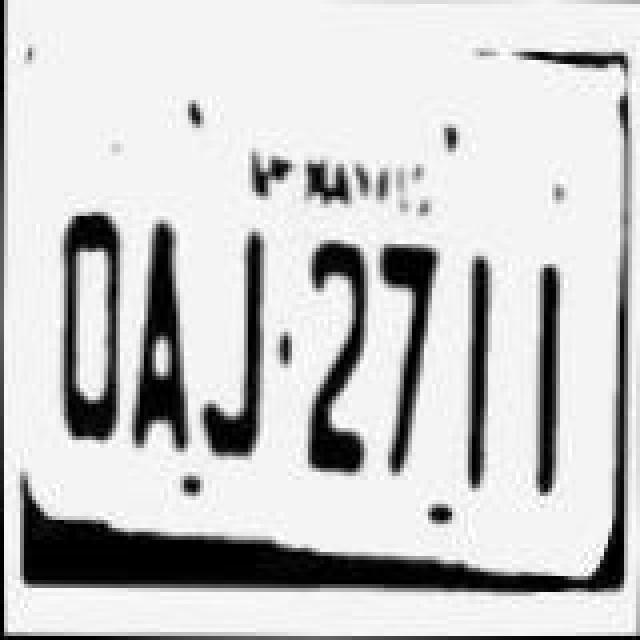1: (518, 258, 578, 510), (458, 238, 514, 498)
2: (308, 240, 384, 492)
7: (382, 236, 454, 492)
A: (134, 224, 206, 484)
J: (212, 234, 288, 486)
O: (60, 220, 136, 476)
